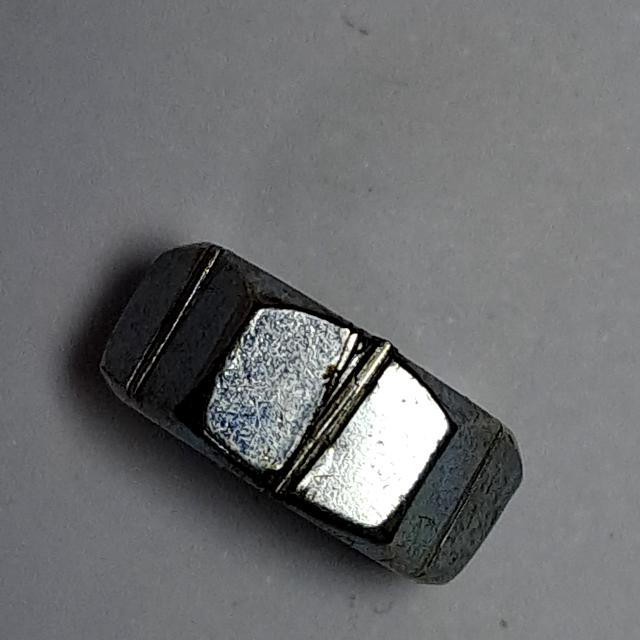Side_Scratches: (87, 230, 544, 598)
